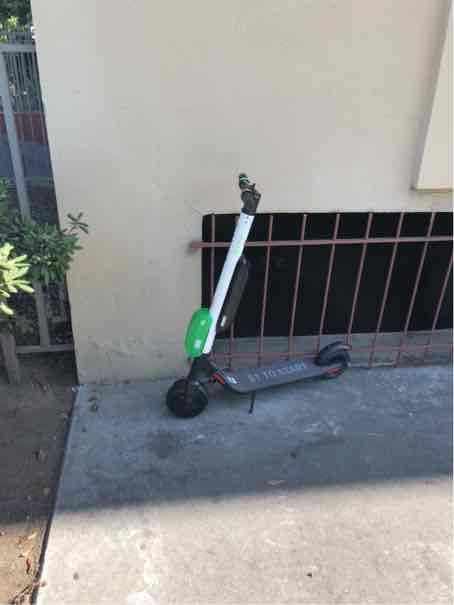scooter: (151, 167, 373, 414)
